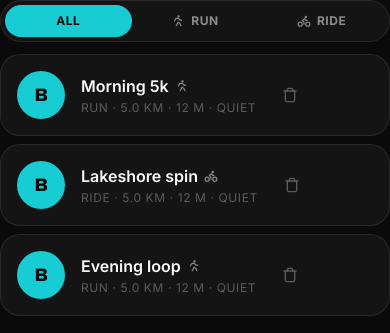
Test: SavedRoutesSection · activity › narrows the list to the chosen activity
The width and height of the screenshot is (390, 333).
Click the radio button labelled "Ride". click: click(322, 21)
box: x1=258 y1=5 x2=385 y2=37
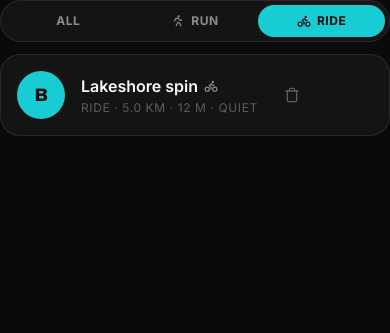
Expected: the text "Lakeshore spin" is shown, x1=81 y1=74 x2=198 y2=98
Expected: the number of list items is 1, x1=0 y1=54 x2=389 y2=136
Click the radio button labelled "Run". click: click(195, 21)
box: x1=132 y1=5 x2=258 y2=37
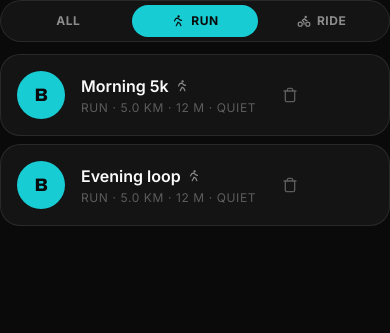
Expected: the number of list items is 2, x1=0 y1=54 x2=389 y2=136; x1=0 y1=144 x2=389 y2=226
